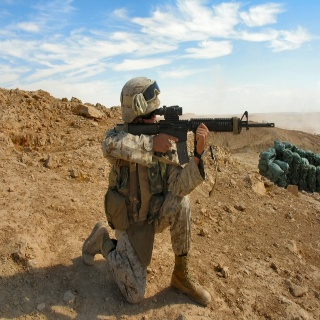rifle: (126, 104, 276, 164)
